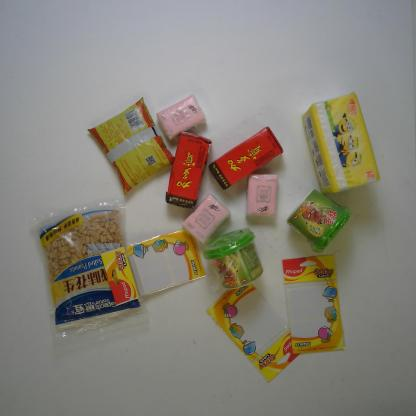Dried Fruit: (36, 208, 138, 326)
Drink: (210, 126, 284, 190), (164, 129, 213, 208)
Instant Drink: (285, 188, 350, 254), (202, 226, 263, 289)
Seasoner: (86, 97, 174, 194)
Stationery: (207, 284, 297, 382), (102, 228, 209, 307), (281, 254, 347, 353)
Tissue: (300, 92, 380, 195), (156, 95, 207, 140), (181, 194, 229, 241), (244, 172, 280, 218)
